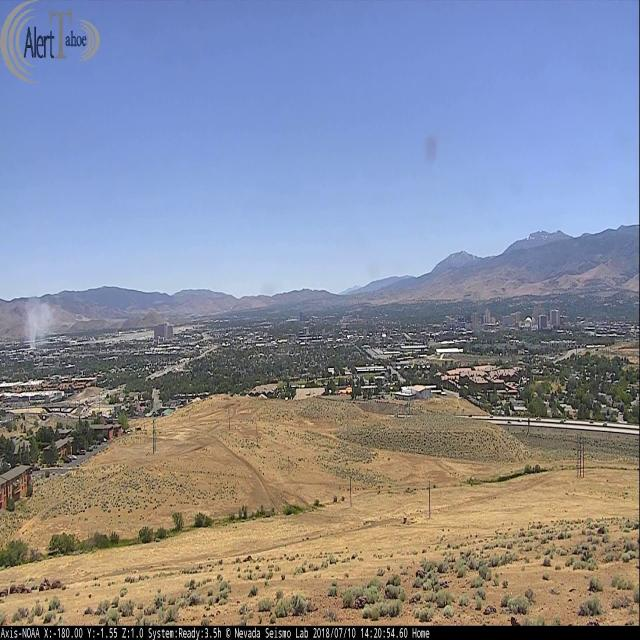smoke: (23, 294, 62, 350)
